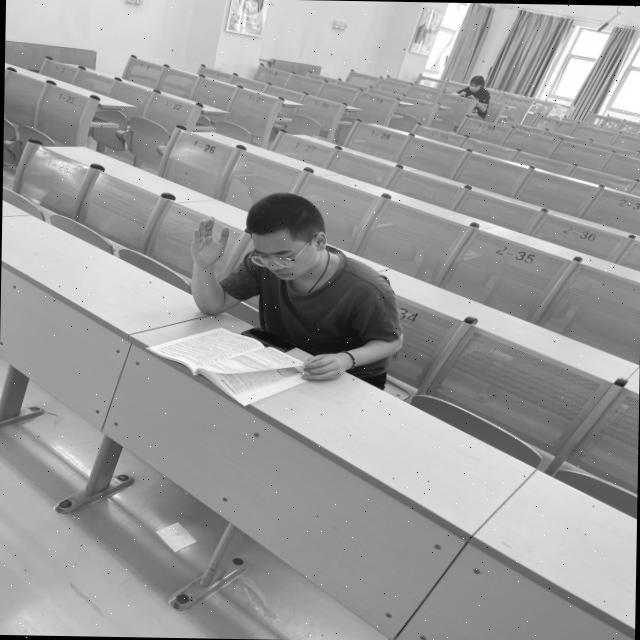study: (188, 191, 403, 380)
